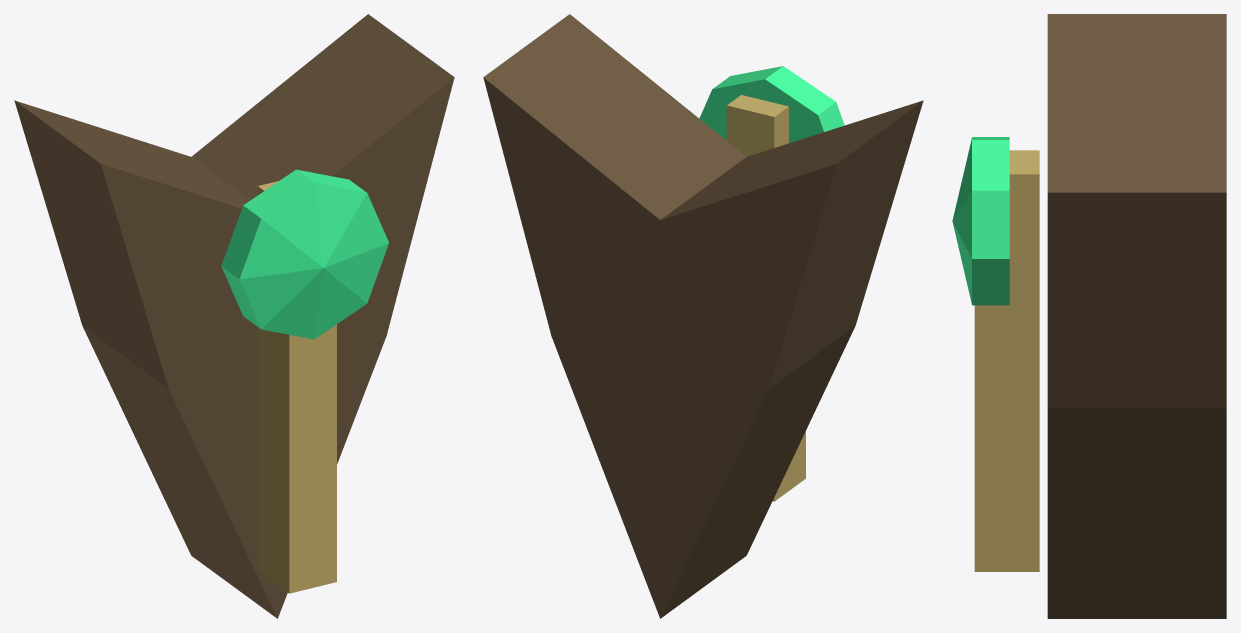
The model's file is needle_spike.obj.
3 renders of one model, left to right at view 1: azimuth 30°, elevation 25°; view 2: azimuth 150°, elevation 25°; view 3: azimuth 270°, elevation 25°, orthographic. The views are drawn at different scales.
Visible parts, largest first — view 1: needle_pommel_edge, needle_pommel, needle_gem, needle_edge, needle_edge_edge; view 2: needle_pommel, needle_pommel_edge, needle_gem, needle_edge_edge, needle_edge; view 3: needle_pommel_edge, needle_edge_edge, needle_gem.
Boxes of the visible parts, left/top/right/bottom form: needle_pommel_edge: left=14, top=14, right=454, bottom=618; needle_pommel: left=101, top=77, right=454, bottom=618; needle_gem: left=221, top=169, right=388, bottom=339; needle_edge: left=289, top=324, right=336, bottom=593; needle_edge_edge: left=257, top=181, right=289, bottom=593; needle_pommel: left=483, top=77, right=836, bottom=618; needle_pommel_edge: left=483, top=14, right=923, bottom=618; needle_gem: left=699, top=66, right=844, bottom=143; needle_edge_edge: left=727, top=95, right=805, bottom=501; needle_edge: left=726, top=105, right=774, bottom=501; needle_pommel_edge: left=1047, top=14, right=1226, bottom=618; needle_edge_edge: left=974, top=150, right=1039, bottom=571; needle_gem: left=952, top=137, right=1009, bottom=305.
Bounding box in the file's own units: 0.26 × 0.35 × 0.1687.
